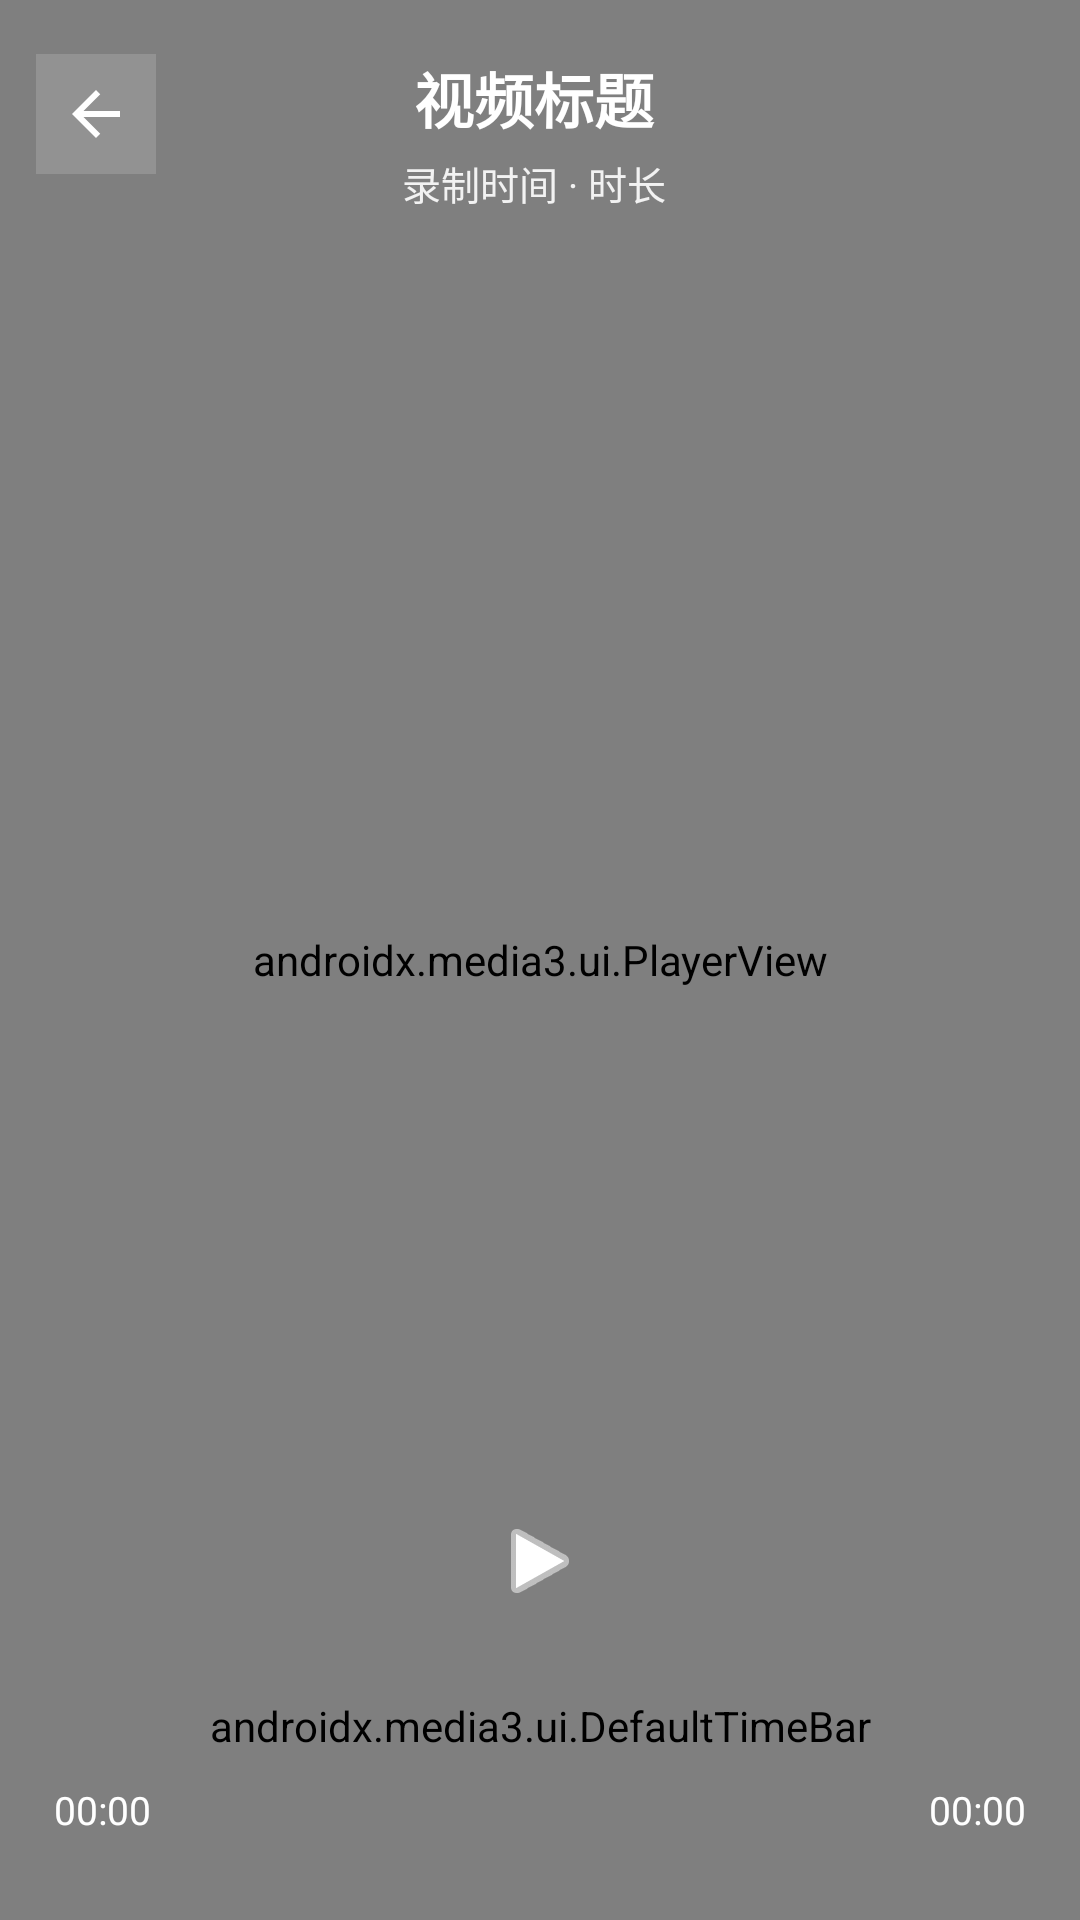

Named icons in this screenshot (1080px×1920px) and their centers, point (x, y):
播放或暂停: point (540, 1561)
返回: point (96, 114)
